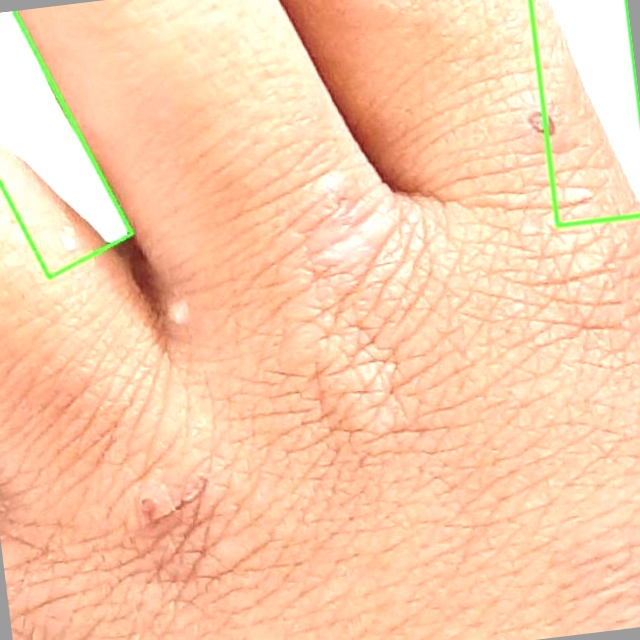Scabies: (0, 9, 135, 277), (530, 0, 639, 225)
